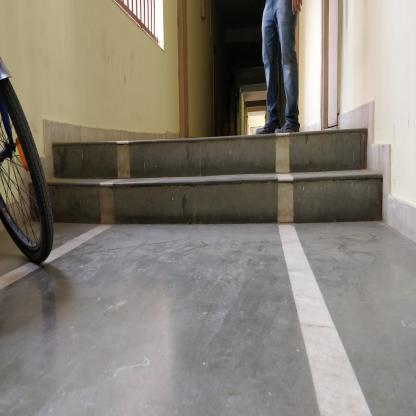stairs: (57, 133, 366, 230)
